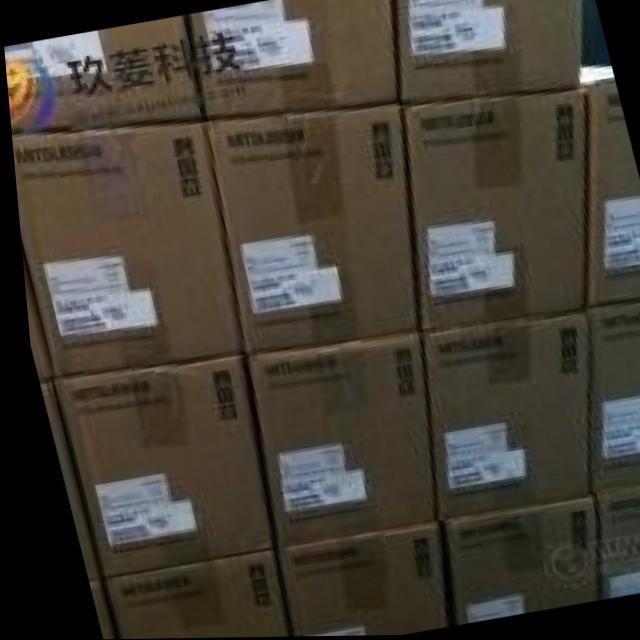box: (25, 263, 534, 639), (142, 0, 440, 307), (3, 23, 243, 350), (449, 223, 640, 599), (365, 0, 617, 265)
